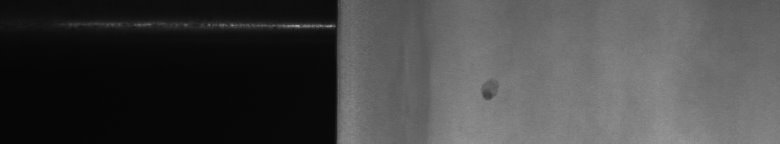fi: (476, 75, 500, 107)
